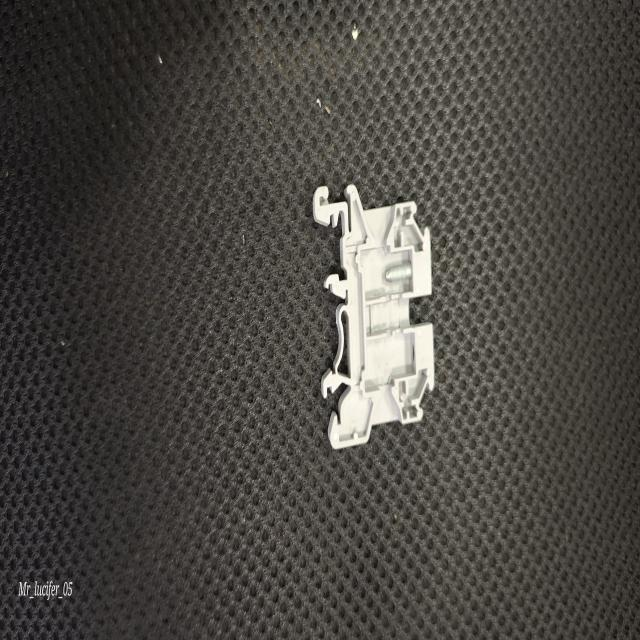Reject: (309, 175, 437, 457)
